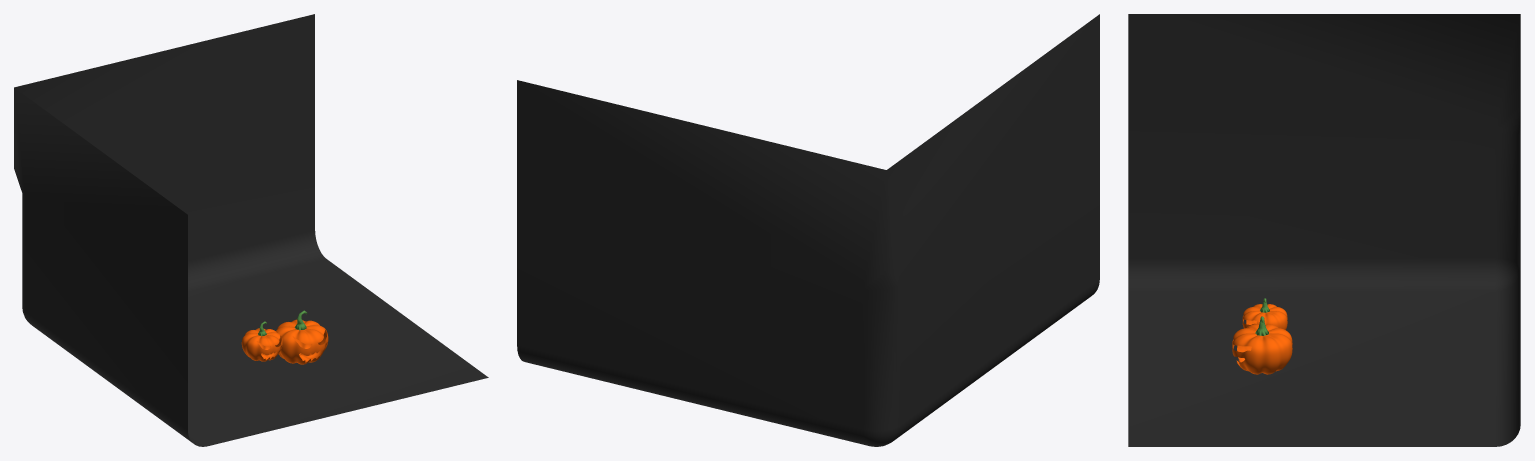
File: pumpkins.glb
The picture shows the model from 3 angles, left to right: view 1: azimuth 30°, elevation 25°; view 2: azimuth 150°, elevation 25°; view 3: azimuth 270°, elevation 25°; orthographic projection. The views are drawn at different scales.
Visible parts, largest first — view 1: 平面, 球, 球.001; view 2: 平面; view 3: 平面, 球, 球.001.
Part boxes in pixels (x1=…): 平面: x1=14, y1=14, x2=488, y2=446; 球: x1=275, y1=319, x2=328, y2=364; 球.001: x1=241, y1=328, x2=282, y2=361; 平面: x1=517, y1=14, x2=1099, y2=446; 平面: x1=1128, y1=14, x2=1520, y2=446; 球: x1=1232, y1=324, x2=1292, y2=374; 球.001: x1=1242, y1=304, x2=1287, y2=329.
Size of the model in its own units: 12.49 by 9.37 by 12.49.
